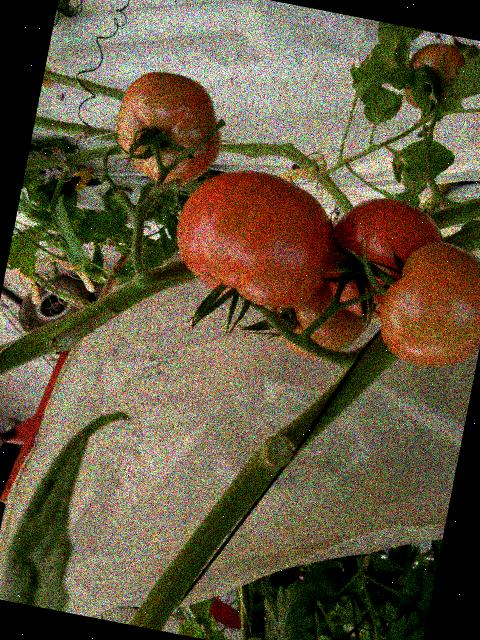b_fully_ripened: (318, 189, 450, 329)
b_green: (236, 634, 271, 640)
b_half_ripened: (165, 157, 346, 317), (105, 64, 233, 195), (371, 232, 480, 375), (260, 269, 373, 369), (399, 36, 476, 119)
